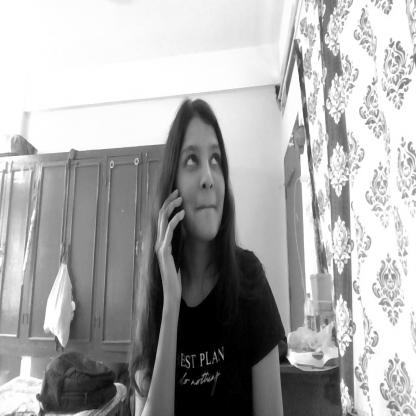Distracted: (168, 102, 233, 258)
